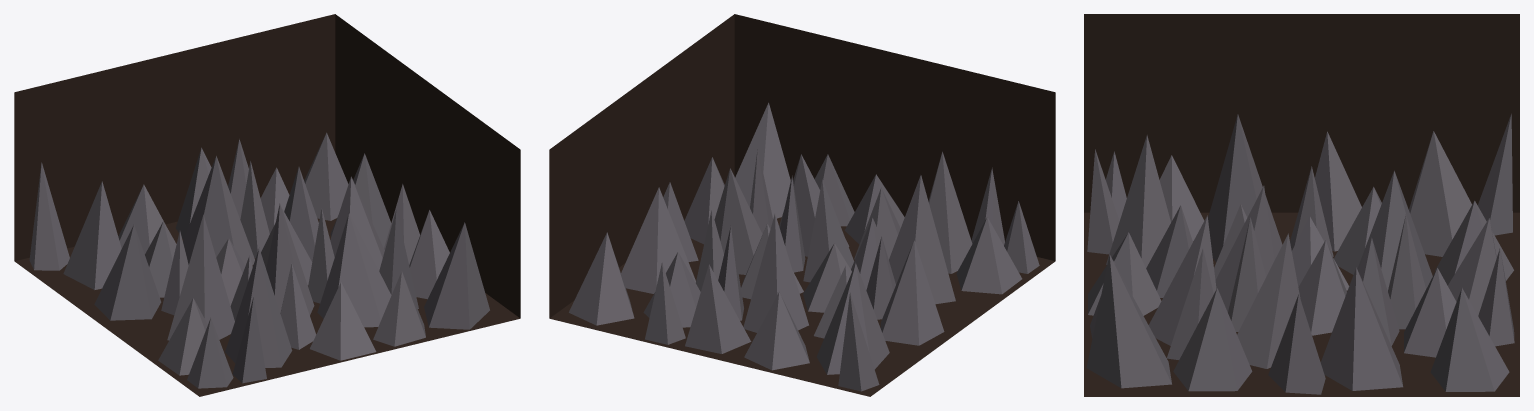
File: Trap1.fbx
The picture shows the model from 3 angles, left to right: view 1: azimuth 30°, elevation 25°; view 2: azimuth 150°, elevation 25°; view 3: azimuth 270°, elevation 25°; orthographic projection. The views are drawn at different scales.
Visible parts, largest first — view 1: Trap1; view 2: Trap1; view 3: Trap1.
Boxes of the visible parts, x1,y1,x2,y2 form: Trap1: (14, 14, 520, 396); Trap1: (549, 14, 1055, 396); Trap1: (1084, 14, 1519, 396).
Size of the model in its own units: 200 by 101 by 200.
